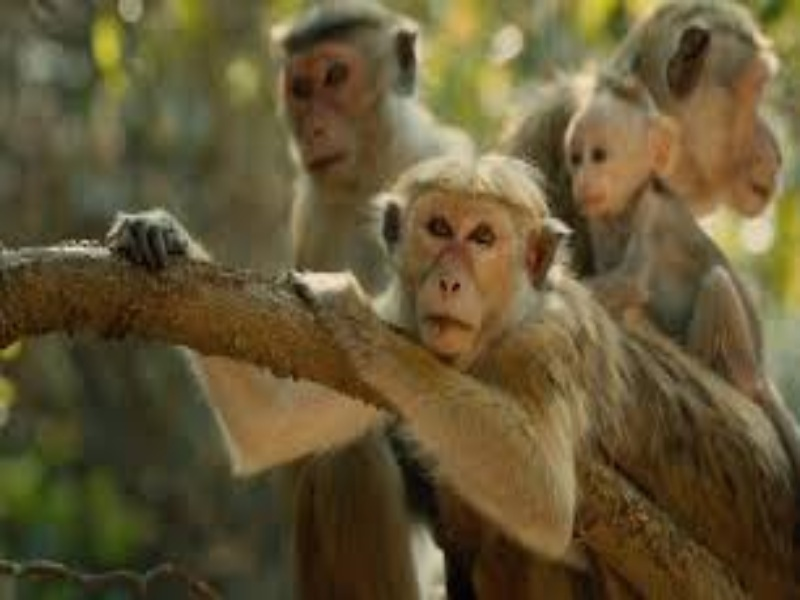monkey: (282, 153, 586, 580), (621, 4, 790, 249), (556, 81, 692, 334), (265, 5, 424, 199)
